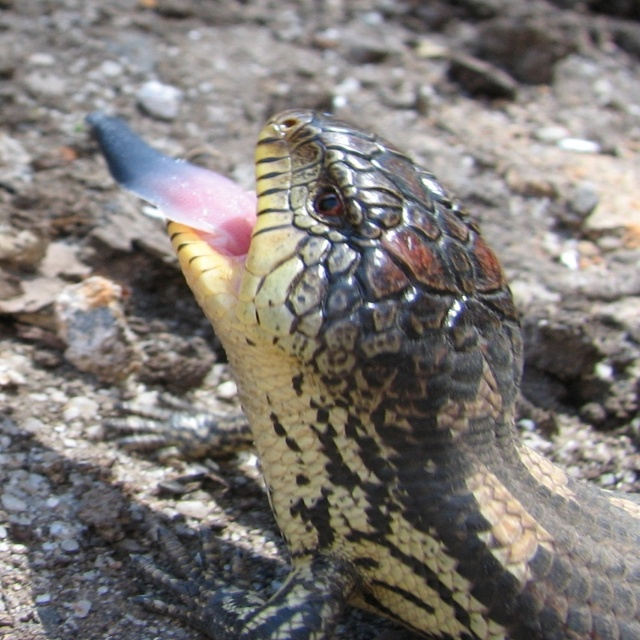Snake: (101, 93, 633, 640)
